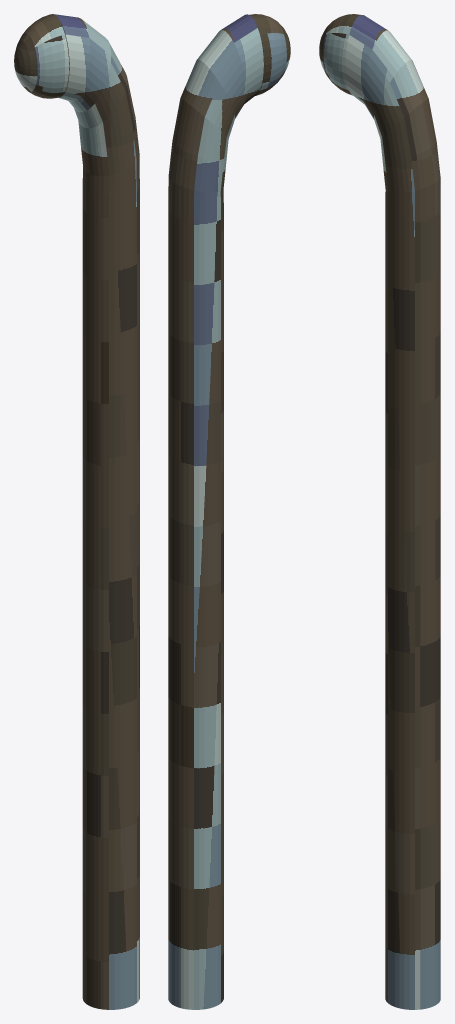
File: fencepost.obj
The picture shows the model from 3 angles, left to right: view 1: azimuth 30°, elevation 25°; view 2: azimuth 210°, elevation 25°; view 3: azimuth 330°, elevation 25°; orthographic projection. The views are drawn at different scales.
Visible parts, largest first — view 1: Sphere; view 2: Sphere; view 3: Sphere.
Part boxes in pixels (<box>): Sphere: <box>14,14,139,1009</box>; Sphere: <box>168,14,290,1009</box>; Sphere: <box>319,14,440,1009</box>.
Bounding box in the file's own units: 1.54 × 12.24 × 0.633.
